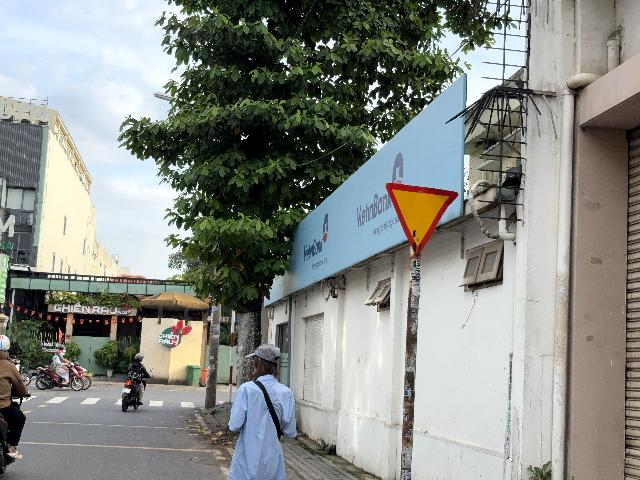giao-nhau-voi-duong-uu-tien: (384, 182, 459, 256)
